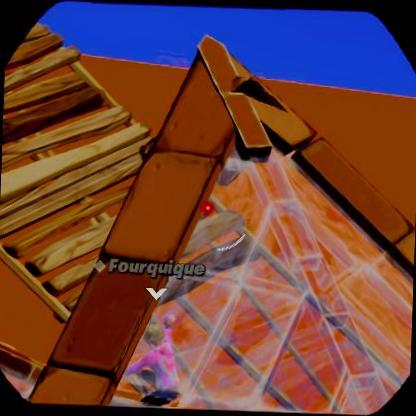person: (138, 316, 178, 415)
